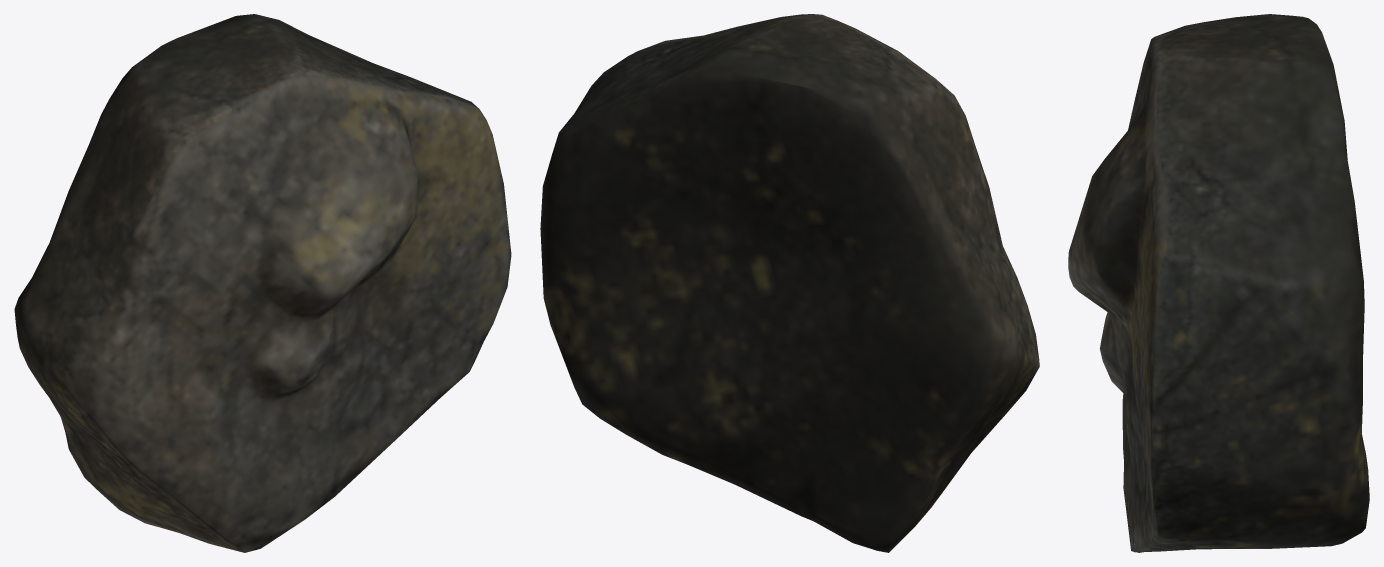
File: rock_small_05.obj
The picture shows the model from 3 angles, left to right: view 1: azimuth 30°, elevation 25°; view 2: azimuth 150°, elevation 25°; view 3: azimuth 270°, elevation 25°; orthographic projection. The views are drawn at different scales.
Visible parts, largest first — view 1: rock_small_05; view 2: rock_small_05; view 3: rock_small_05.
Boxes of the visible parts, box(x1,y1,x2,y2) form: rock_small_05: box(14, 14, 511, 552); rock_small_05: box(540, 14, 1039, 552); rock_small_05: box(1068, 14, 1369, 552).
Bounding box in the file's own units: 4.96 × 5 × 2.58.
Materials: 1 (1 with a texture image).
